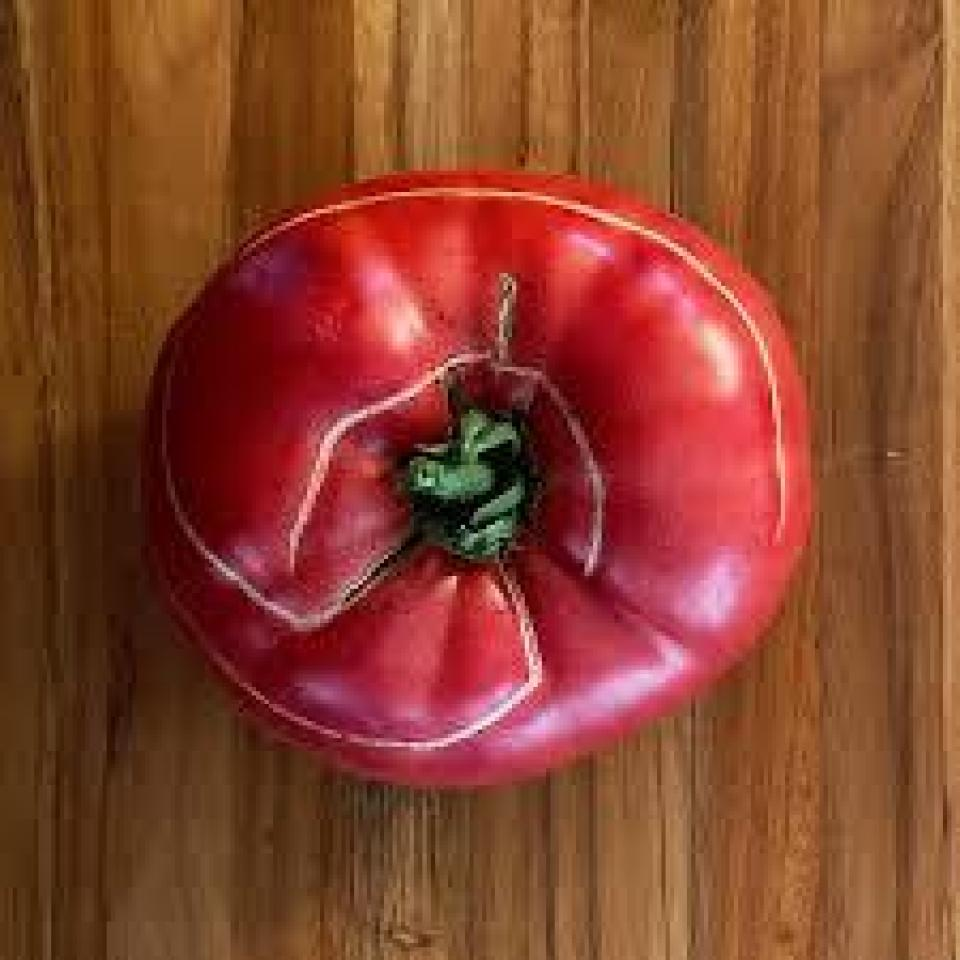Cracking: (203, 192, 792, 519), (266, 275, 644, 579), (151, 513, 553, 760), (147, 291, 414, 636)
